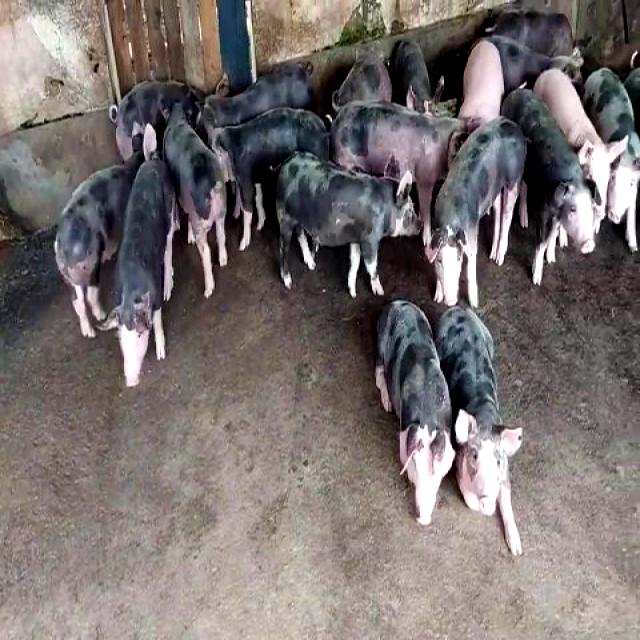pig: (435, 305, 522, 554), (429, 116, 527, 307), (332, 101, 463, 243), (502, 89, 596, 283), (376, 300, 456, 524), (277, 152, 399, 296), (215, 109, 328, 249), (112, 159, 172, 386), (55, 165, 131, 338), (163, 105, 227, 297), (534, 68, 612, 224), (584, 69, 639, 251), (202, 62, 314, 133), (458, 40, 504, 131)
